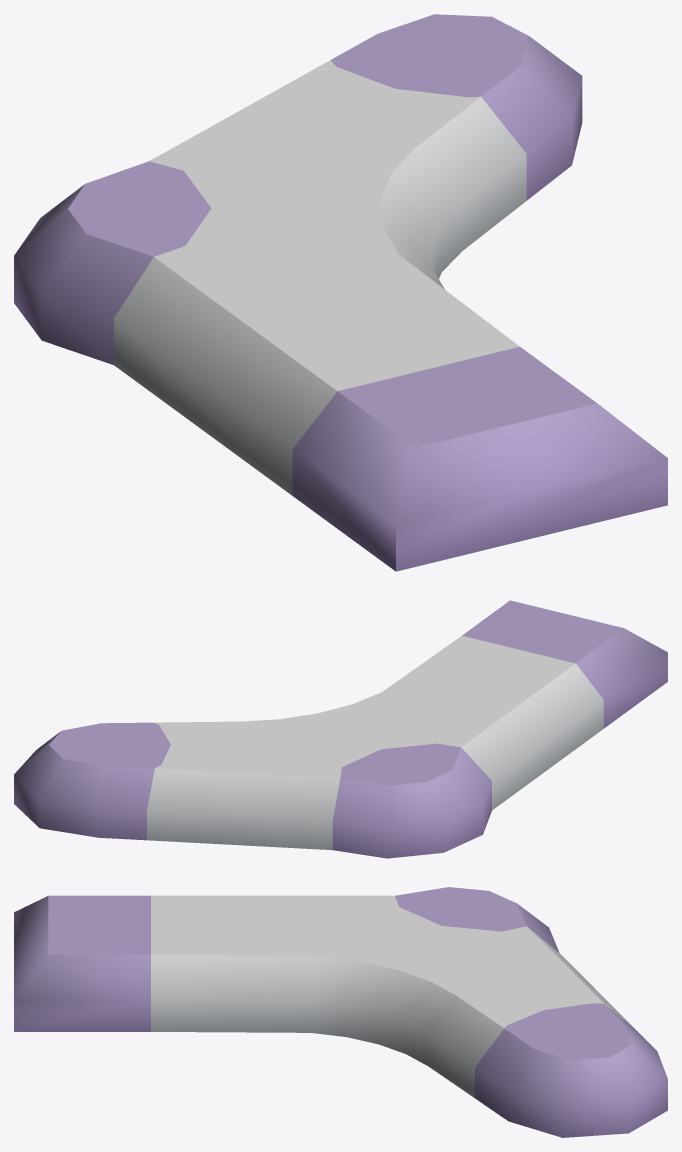
The model's file is clothing-floor-sock.glb.
3 renders of one model, top to bottom at view 1: azimuth 30°, elevation 25°; view 2: azimuth 150°, elevation 25°; view 3: azimuth 270°, elevation 25°, orthographic. The views are drawn at different scales.
Visible parts, largest first — view 1: clothing-floor-sock; view 2: clothing-floor-sock; view 3: clothing-floor-sock.
Boxes of the visible parts, x1,y1,x2,y2 form: clothing-floor-sock: (14,14,667,571); clothing-floor-sock: (14,600,667,858); clothing-floor-sock: (14,887,667,1137).
Bounding box in the file's own units: 0.2812 × 0.0402 × 0.3817.
